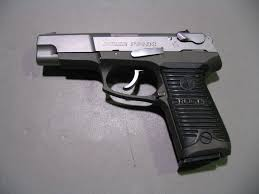gun: (33, 27, 235, 173)
